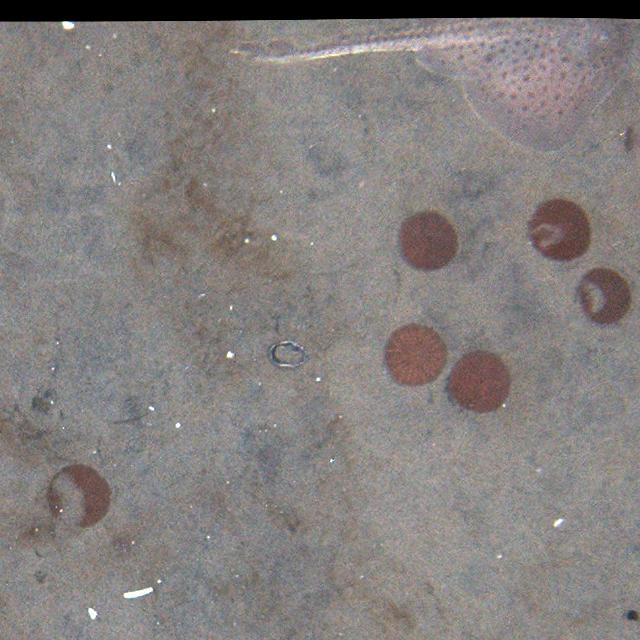skate: (232, 22, 632, 152)
